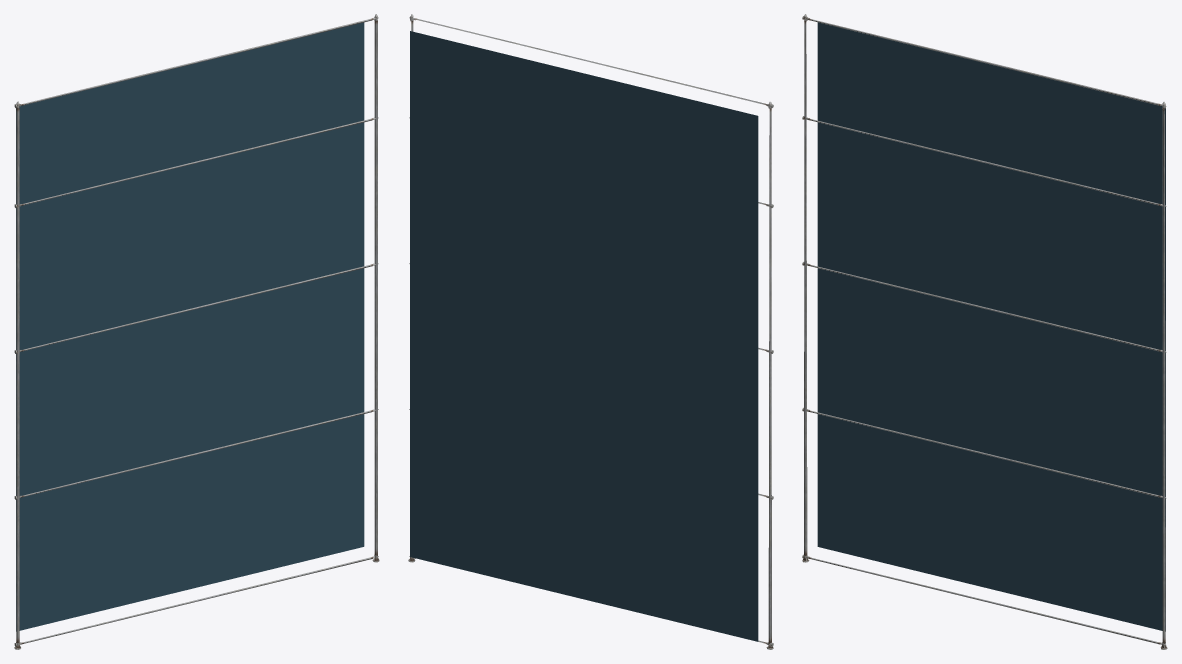
Rendered from reference-storefront.glb.
3 views of the same model, side by side, from view 1: azimuth 30°, elevation 25°; view 2: azimuth 150°, elevation 25°; view 3: azimuth 330°, elevation 25° (orthographic).
Visible parts, largest first — view 1: reference_storefront_window_centered_large_01; view 2: reference_storefront_window_centered_large_01; view 3: reference_storefront_window_centered_large_01.
Part boxes in pixels (x1,y1,x2,y2): reference_storefront_window_centered_large_01: (14,14,379,649); reference_storefront_window_centered_large_01: (408,14,773,649); reference_storefront_window_centered_large_01: (802,14,1167,649).
Size of the model in its own units: 3.66 by 5.25 by 0.1519.
Materials: 2 (1 with a texture image).
